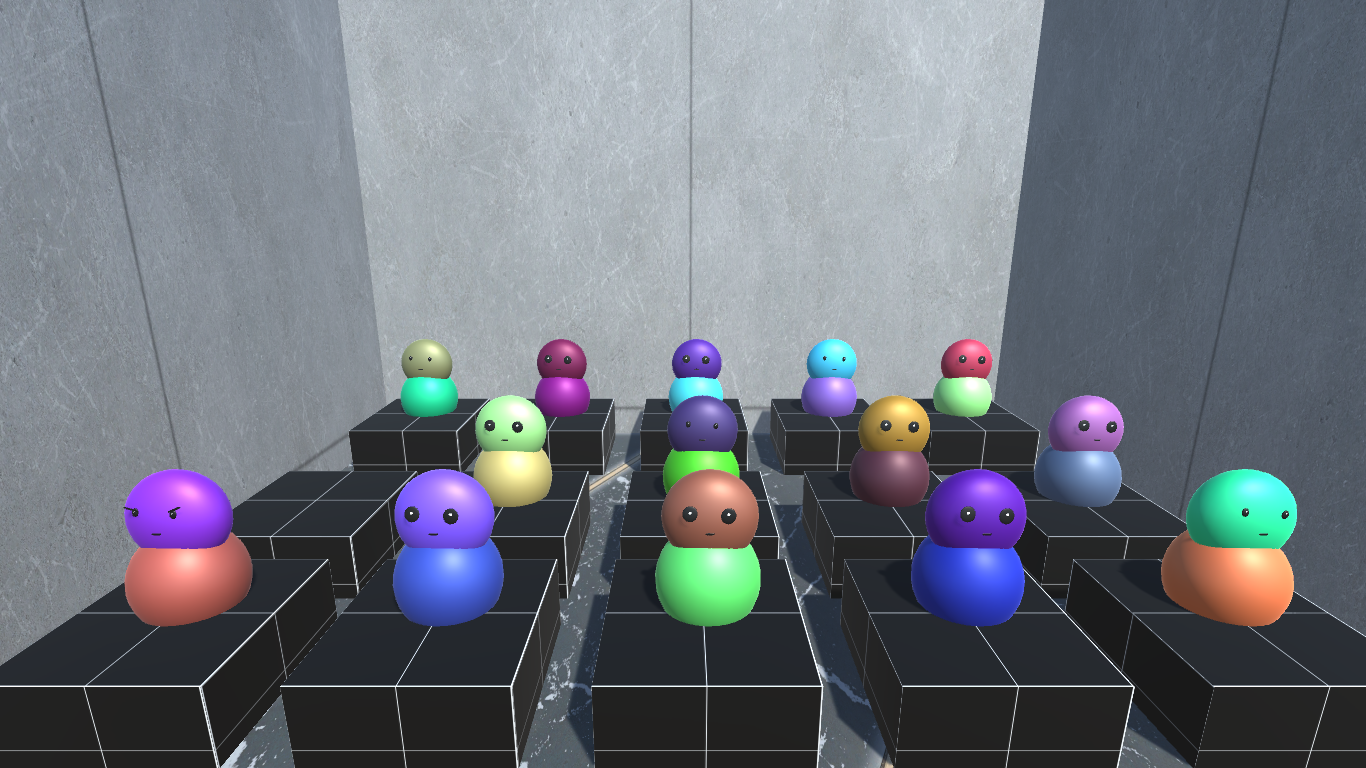blob_atento: (921, 467, 1031, 558), (656, 466, 766, 553), (388, 466, 495, 553), (1041, 391, 1126, 451), (471, 394, 549, 453), (854, 394, 927, 455), (668, 332, 724, 383), (534, 334, 588, 384), (932, 340, 995, 381)
blob_normal: (1182, 459, 1304, 552), (663, 393, 745, 455), (397, 335, 456, 381), (803, 339, 861, 382)
blob_raiva: (119, 463, 230, 553)
